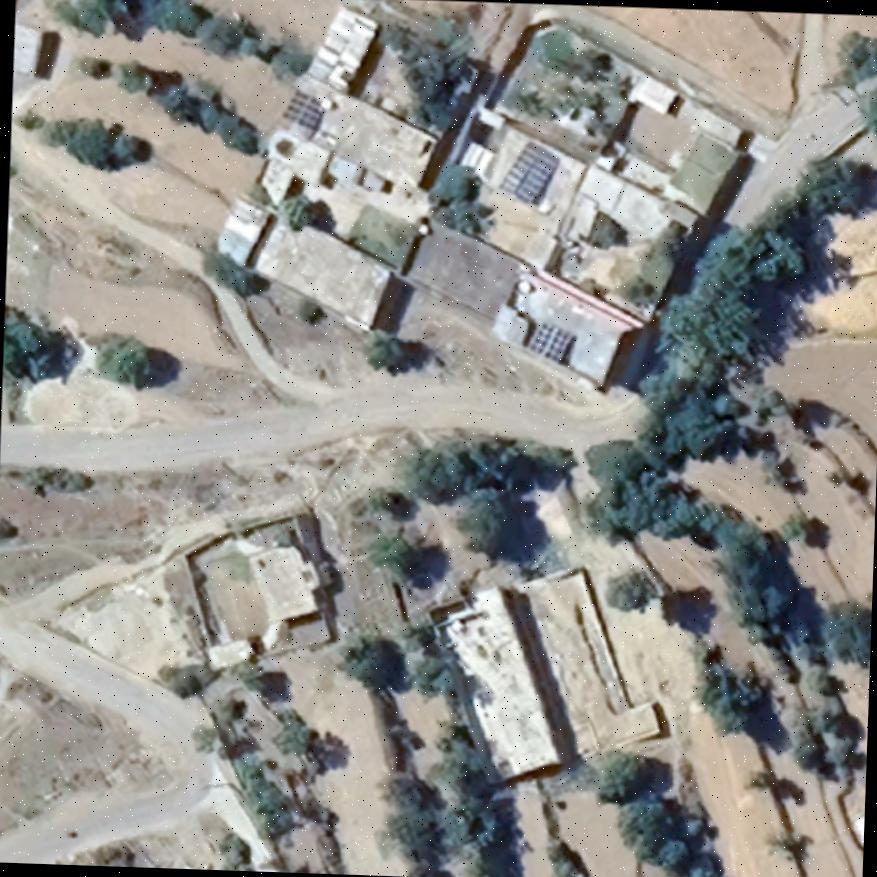Solarpanel: (498, 141, 560, 207), (522, 318, 575, 368), (281, 89, 322, 131)
